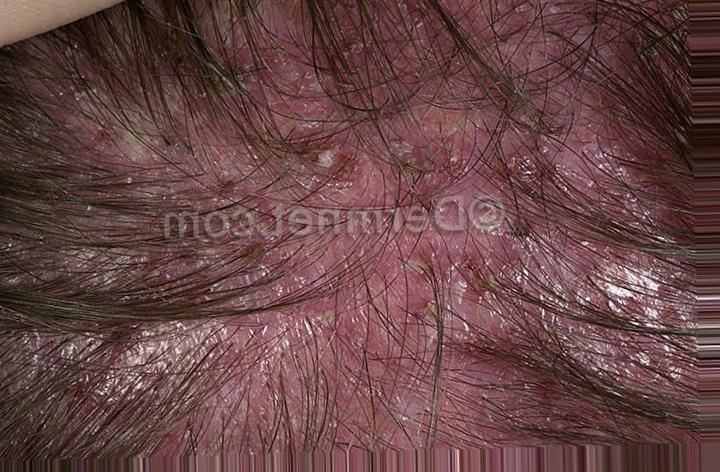Folliculitis: (260, 119, 392, 201)
